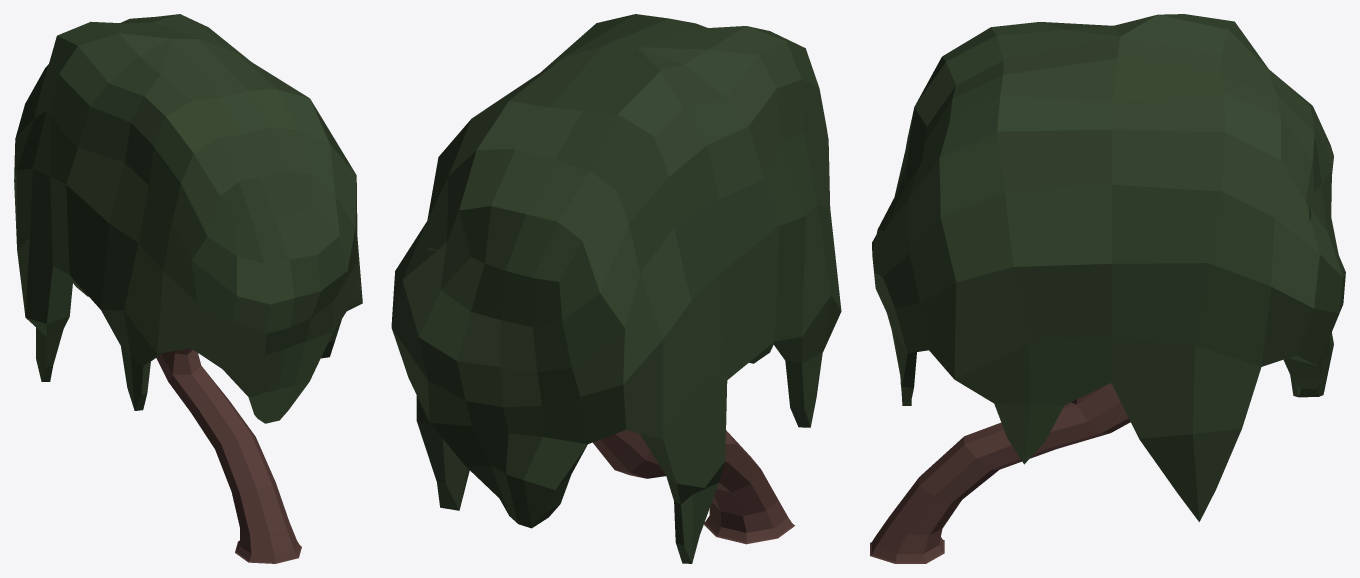
Rendered from Willow_3.glb.
3 views of the same model, side by side, from view 1: azimuth 30°, elevation 25°; view 2: azimuth 150°, elevation 25°; view 3: azimuth 270°, elevation 25° (orthographic). The views are drawn at different scales.
Visible parts, largest first — view 1: Willow_3; view 2: Willow_3; view 3: Willow_3.
Part boxes in pixels (x1,y1,x2,y2): Willow_3: (14,14,362,563); Willow_3: (391,14,841,563); Willow_3: (870,14,1345,563).
Bounding box in the file's own units: 1.32 × 2.35 × 1.98.
